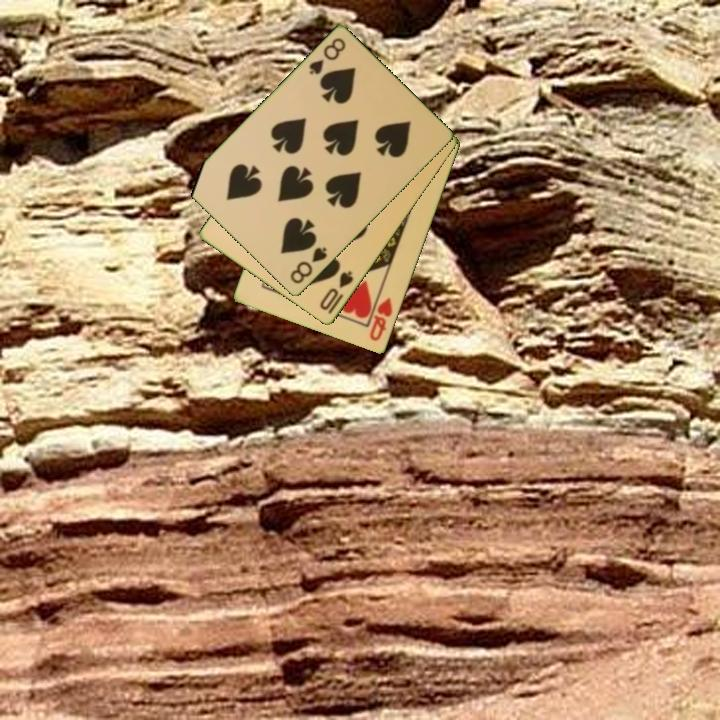10s: (316, 267, 356, 314)
8s: (305, 35, 349, 78), (287, 244, 330, 287)
Qh: (366, 294, 396, 344)
